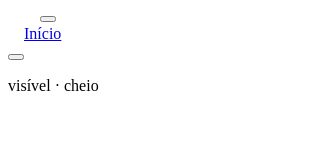
Test: AppSidebar › esconde o menu pelo botão de fechar
Step 1. Click the button named "Fechar o menu lateral" → click(48, 19), box [40,16,56,22]
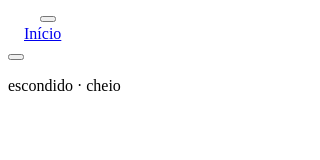
Expected: the text with test id "shell" shows "escondido", [8,77,73,94]
